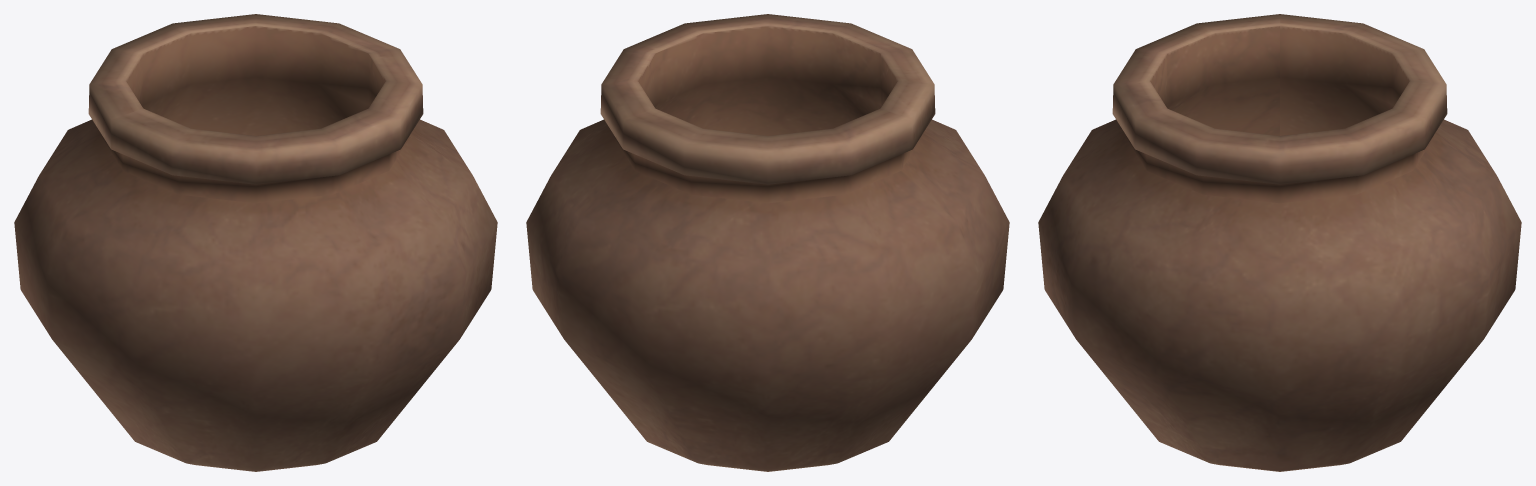
3 renders of one model, left to right at view 1: azimuth 30°, elevation 25°; view 2: azimuth 150°, elevation 25°; view 3: azimuth 270°, elevation 25°, orthographic.
Parts seen in each view (by area): view 1: submesh_0; view 2: submesh_0; view 3: submesh_0.
Part boxes in pixels (left/top/right/bottom): submesh_0: left=14, top=14, right=497, bottom=471; submesh_0: left=526, top=14, right=1009, bottom=471; submesh_0: left=1038, top=14, right=1521, bottom=471.
Bounding box in the file's own units: 0.5117 × 0.3963 × 0.5117.
Materials: 1 (1 with a texture image).
